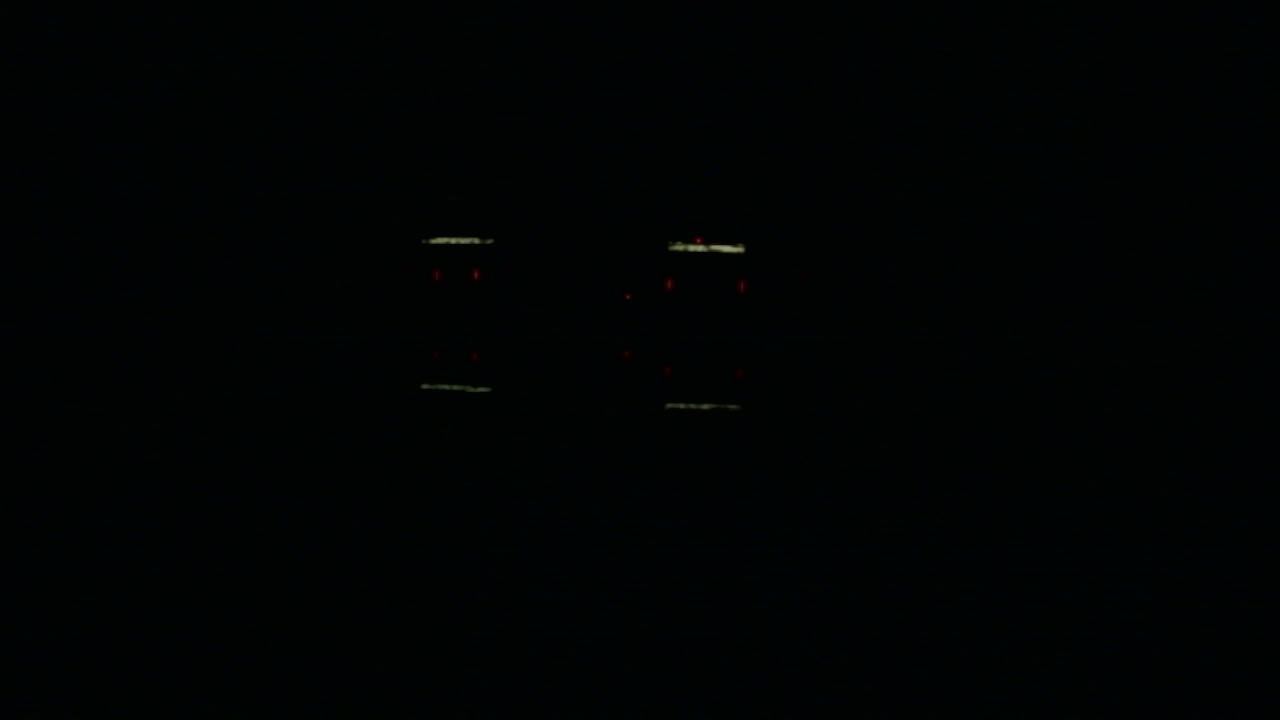pair1: (436, 271, 477, 278)
pair2: (667, 277, 745, 293)
